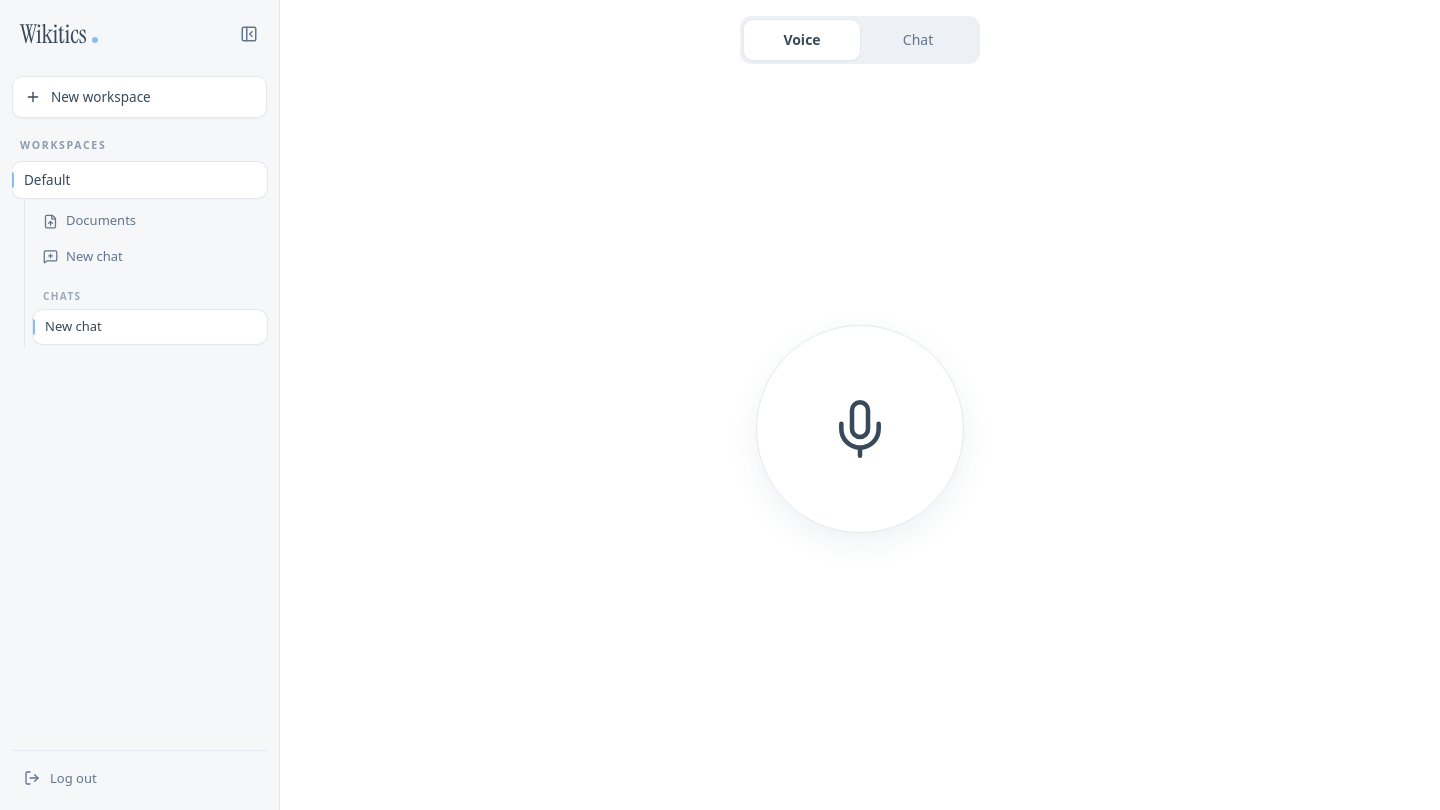
Test: App › loads stored conversation history
Click the button "Chat" at (918, 40), box x1=860 y1=20 x2=976 y2=60
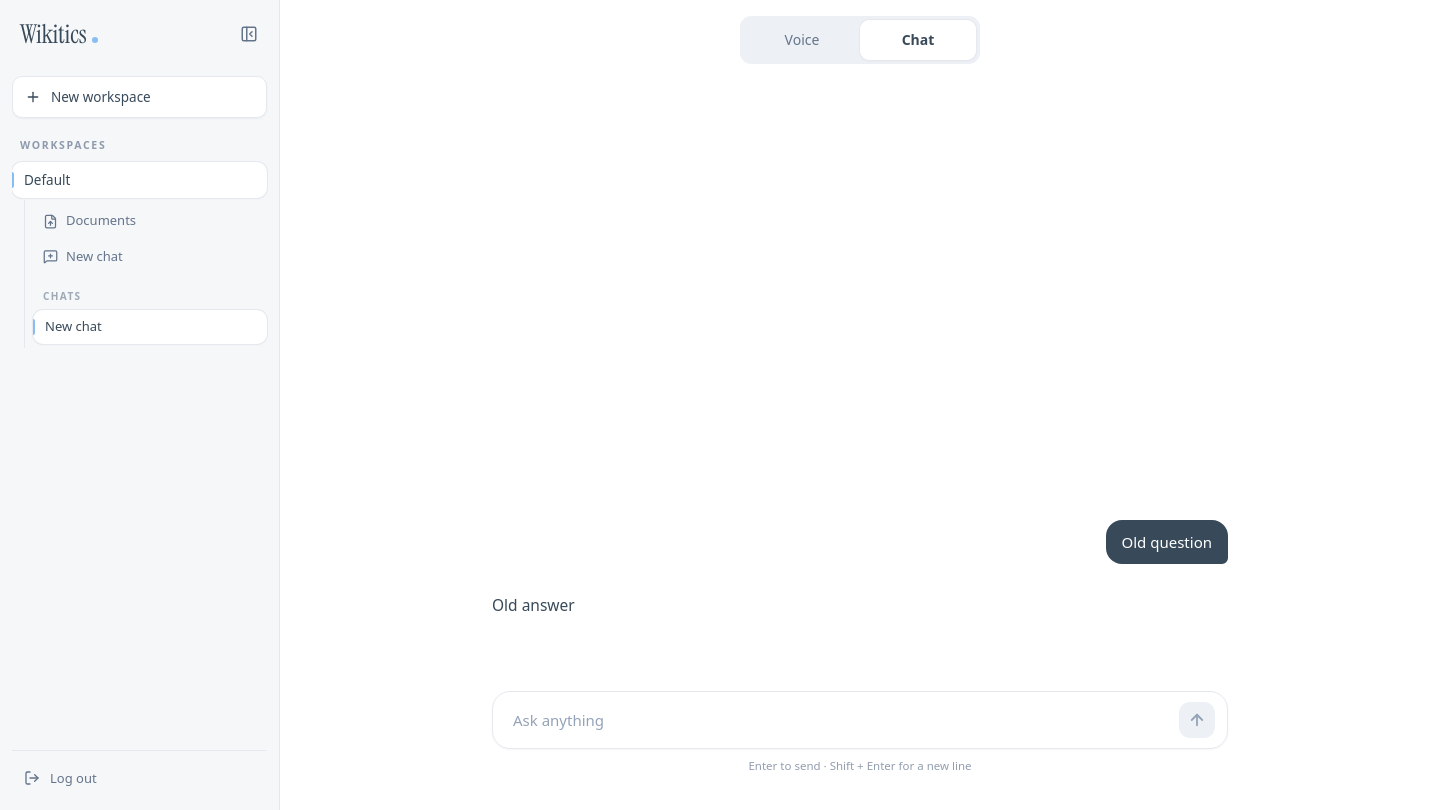
Expected: the text "Old question" is shown, x1=1122 y1=532 x2=1212 y2=552
Expected: the text "Old answer" is shown, x1=492 y1=594 x2=575 y2=616
